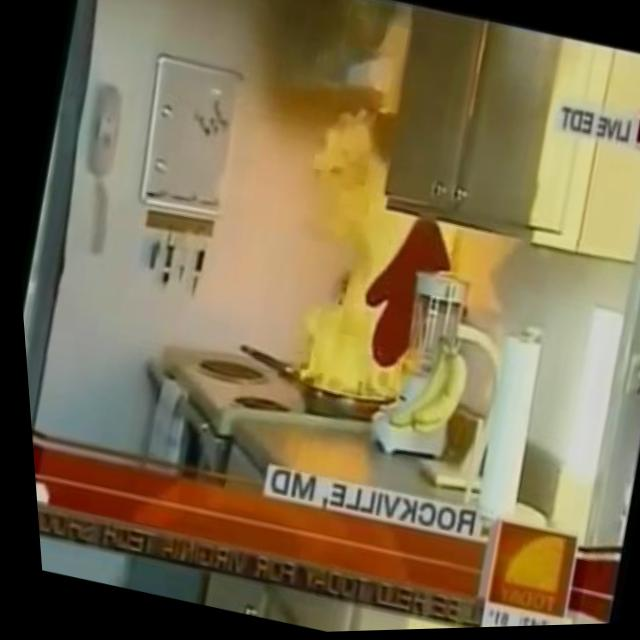fire: (259, 154, 446, 419)
